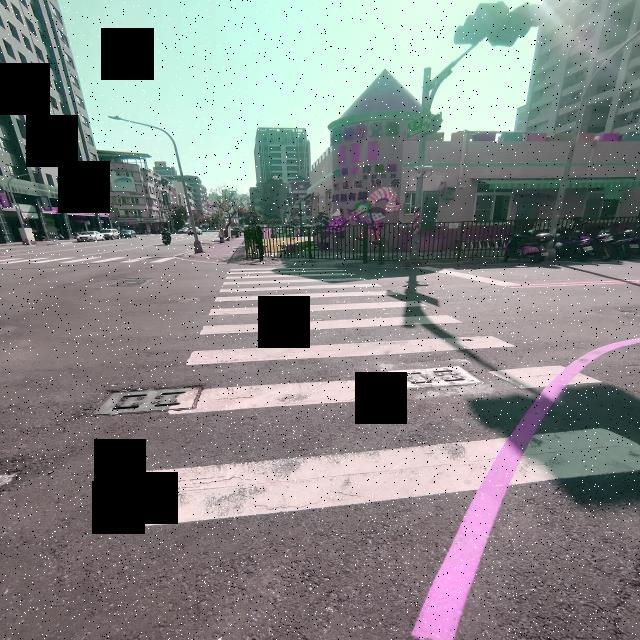zebra crossing: (108, 262, 640, 525), (2, 258, 177, 264)
